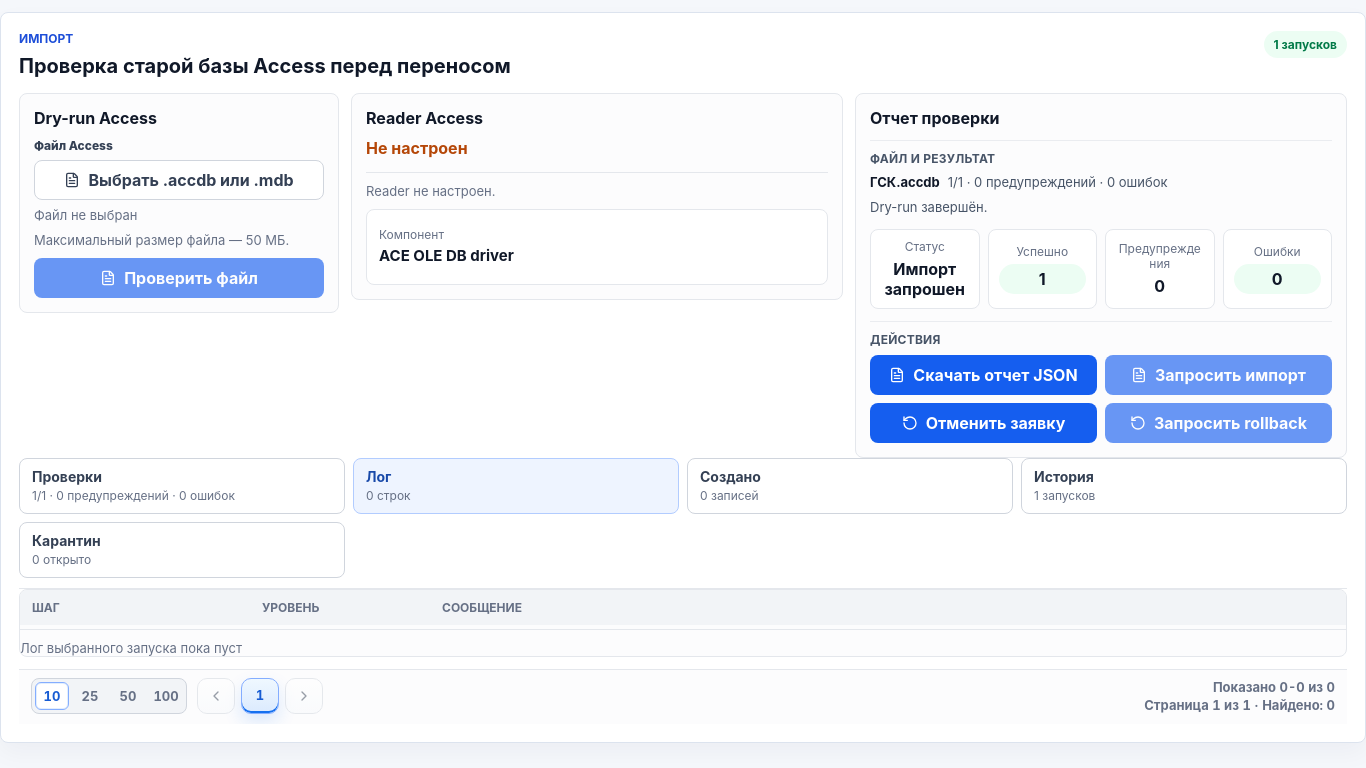
Scenario: ImportPanel server failures › shows an apply-cancel failure inside the dialog, preserves the reason and allows retry
Click the button with aria-label "Отменить заявку на импорт ГСК.accdb" at (984, 423), box [870,403,1097,443]
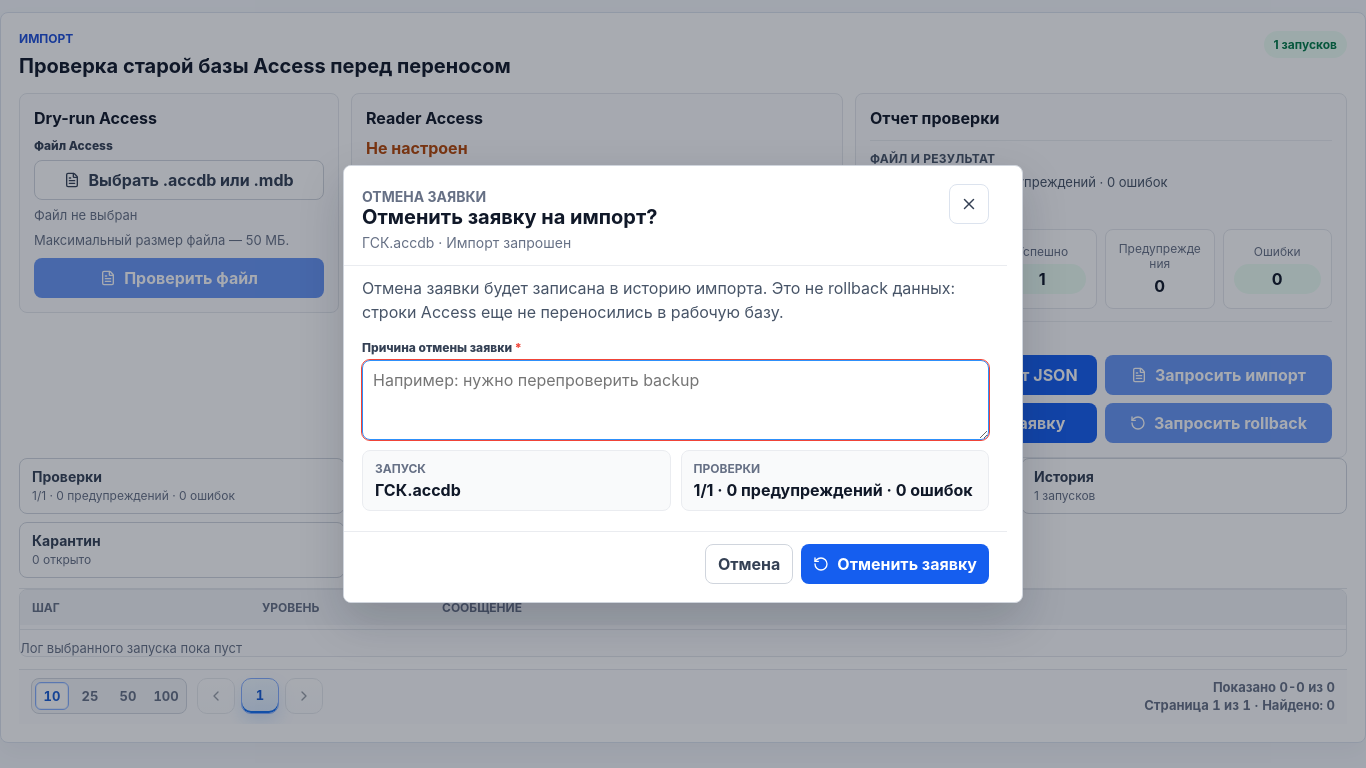
Type "Нужно перепроверить backup" into the text box named "Причина отмены заявки на импорт" at (676, 400), box [362,360,989,440]
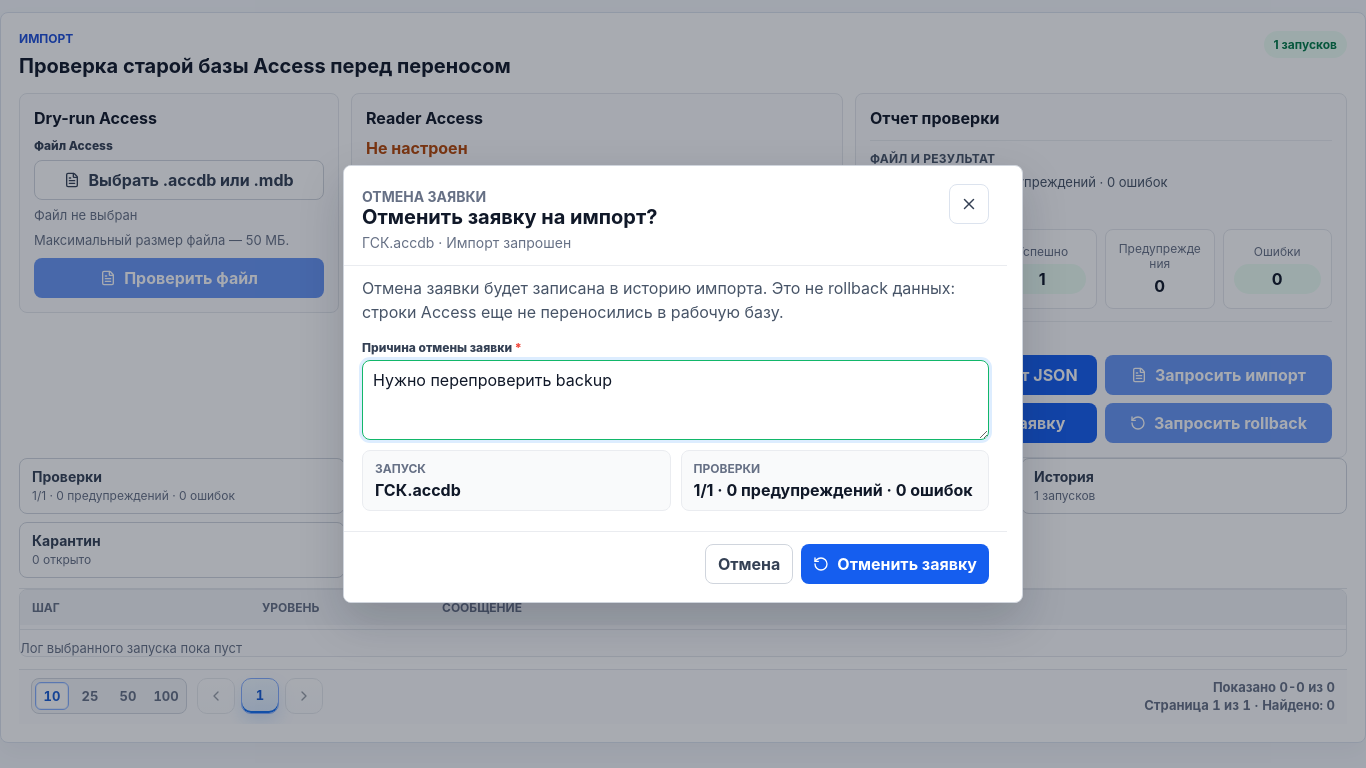
Click the button "Отменить заявку" at (895, 564), box [801,544,989,584]
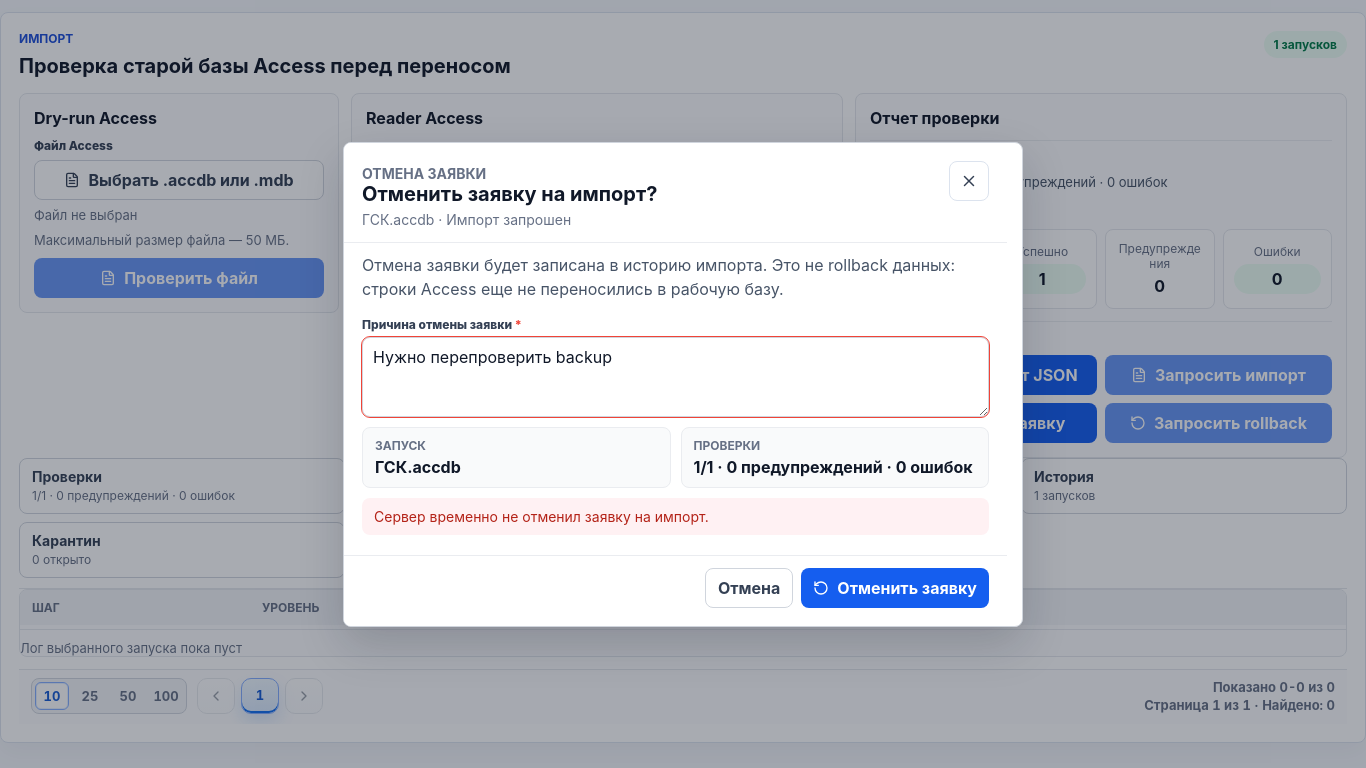
Result: the message reads "Сервер временно не отменил заявку на импорт." at [374,508,709,524]
Result: the text "Сервер временно не отменил заявку на импорт." is shown once at [362,498,989,534]
Click the button "Отменить заявку" at (895, 588), box [801,568,989,608]
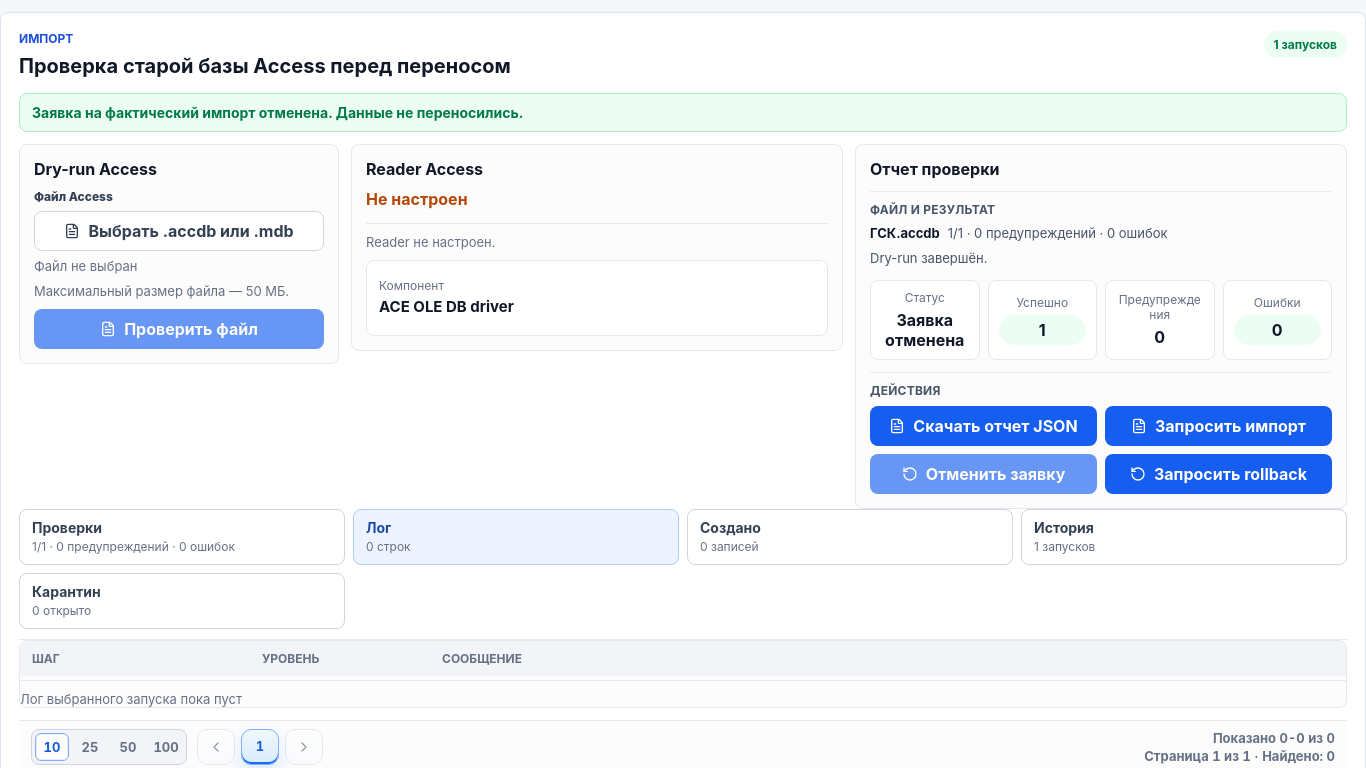
Result: the heading "Отменить заявку на импорт?" is gone
